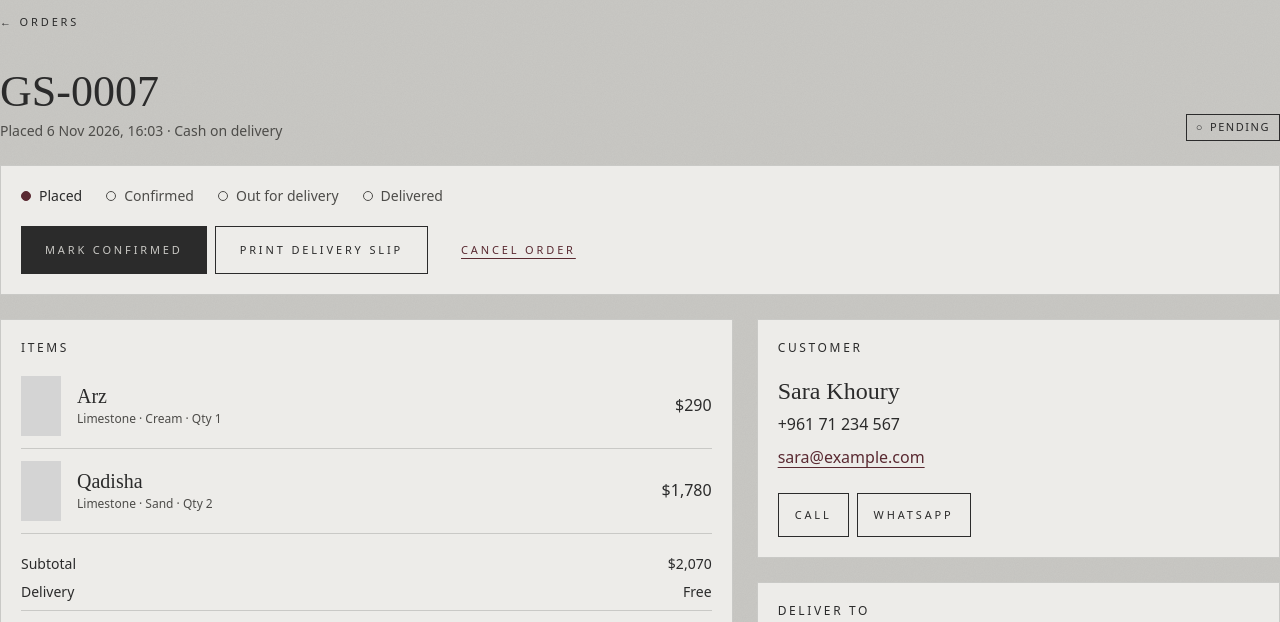
Test case: one order in the studio › asks on the page before cancelling, saying the pieces go back in stock and who gets the email
Click the button "Cancel order": (518, 250) [436, 226, 601, 274]
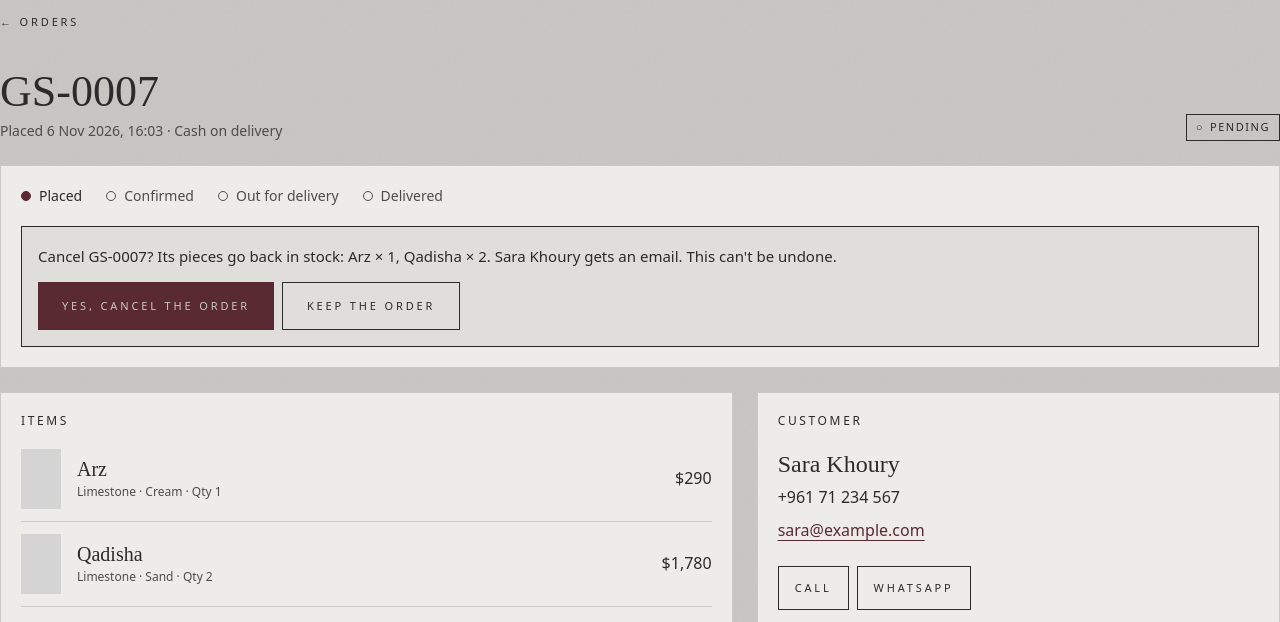
Expected: the text "Cancel GS-0007? Its pieces go back in stock: Arz × 1, Qadisha × 2. Sara Khoury gets an email. This can't be undone." is shown, [38, 246, 837, 266]
Click the button "Keep the order": (371, 306) [282, 282, 460, 330]
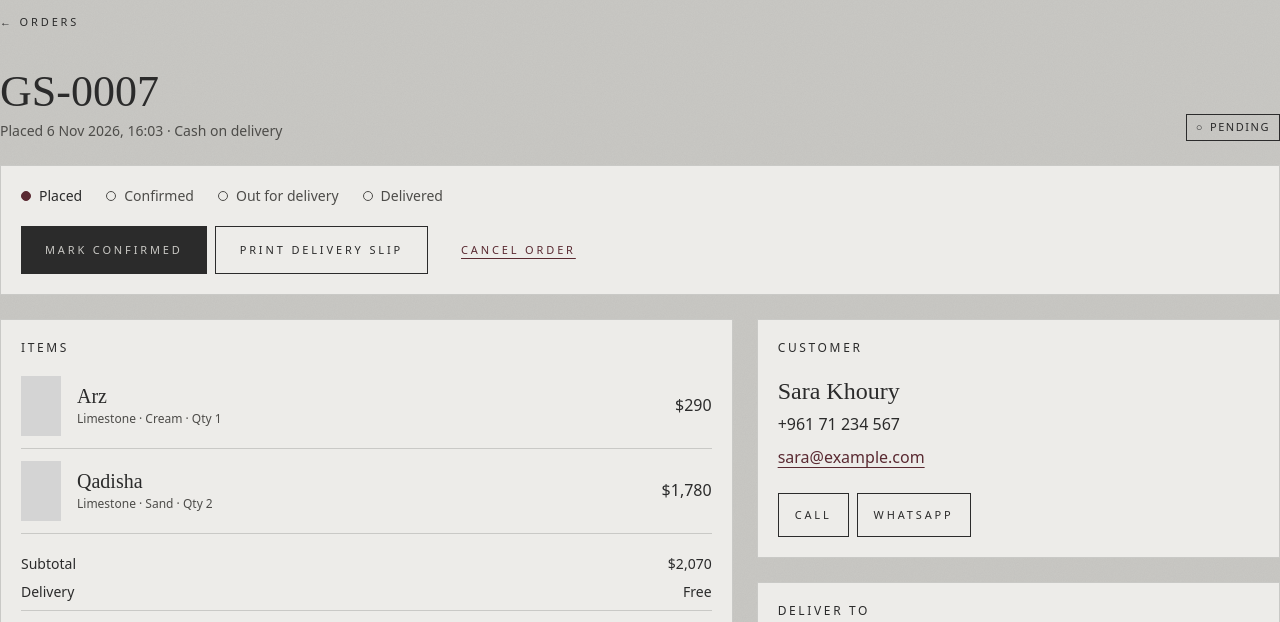
Click the button "Cancel order": (518, 250) [436, 226, 601, 274]
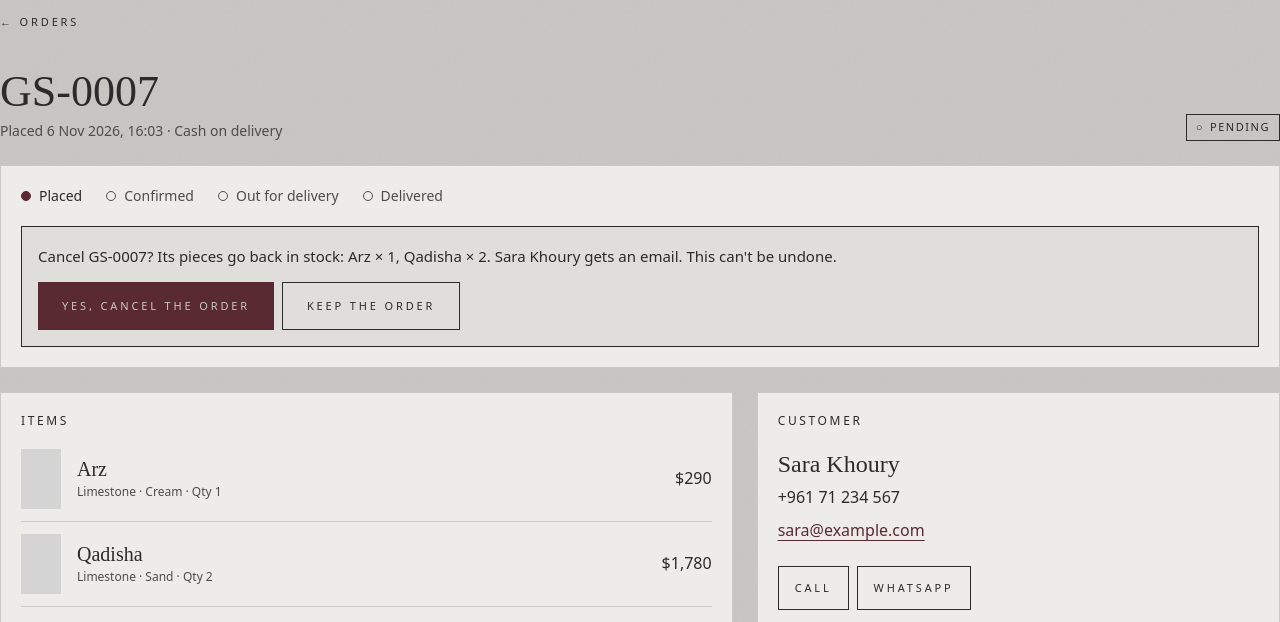
Click the button "Yes, cancel the order": (156, 306) [38, 282, 274, 330]
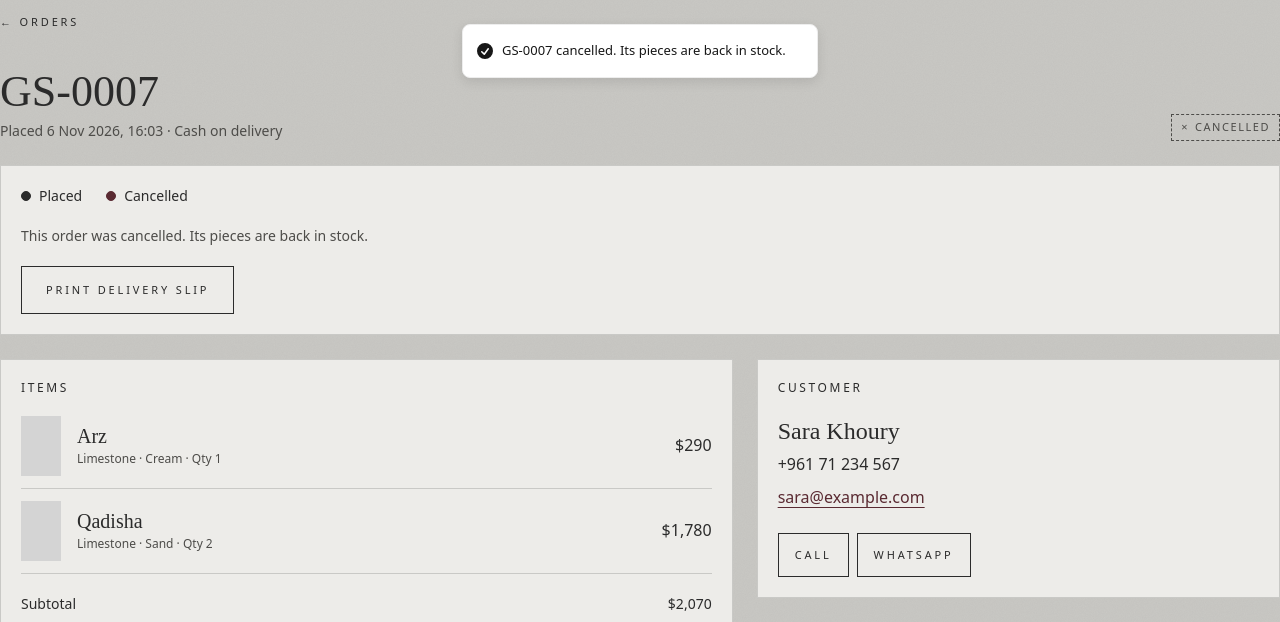
Expected: the button "Cancel order" is not shown
Expected: the text "This order was cancelled. Its pieces are back in stock." is shown, [21, 226, 368, 245]
Expected: the text "GS-0007 cancelled. Its pieces are back in stock." is shown, [502, 41, 786, 60]
